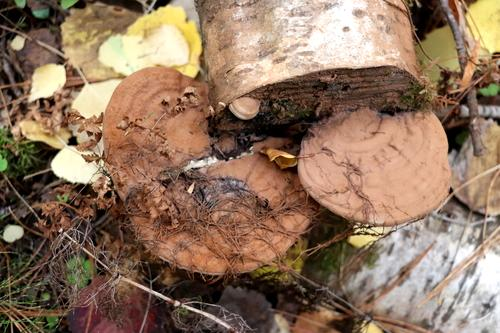Ganoderma - Fruit Body: (104, 64, 295, 273), (299, 102, 452, 224)
